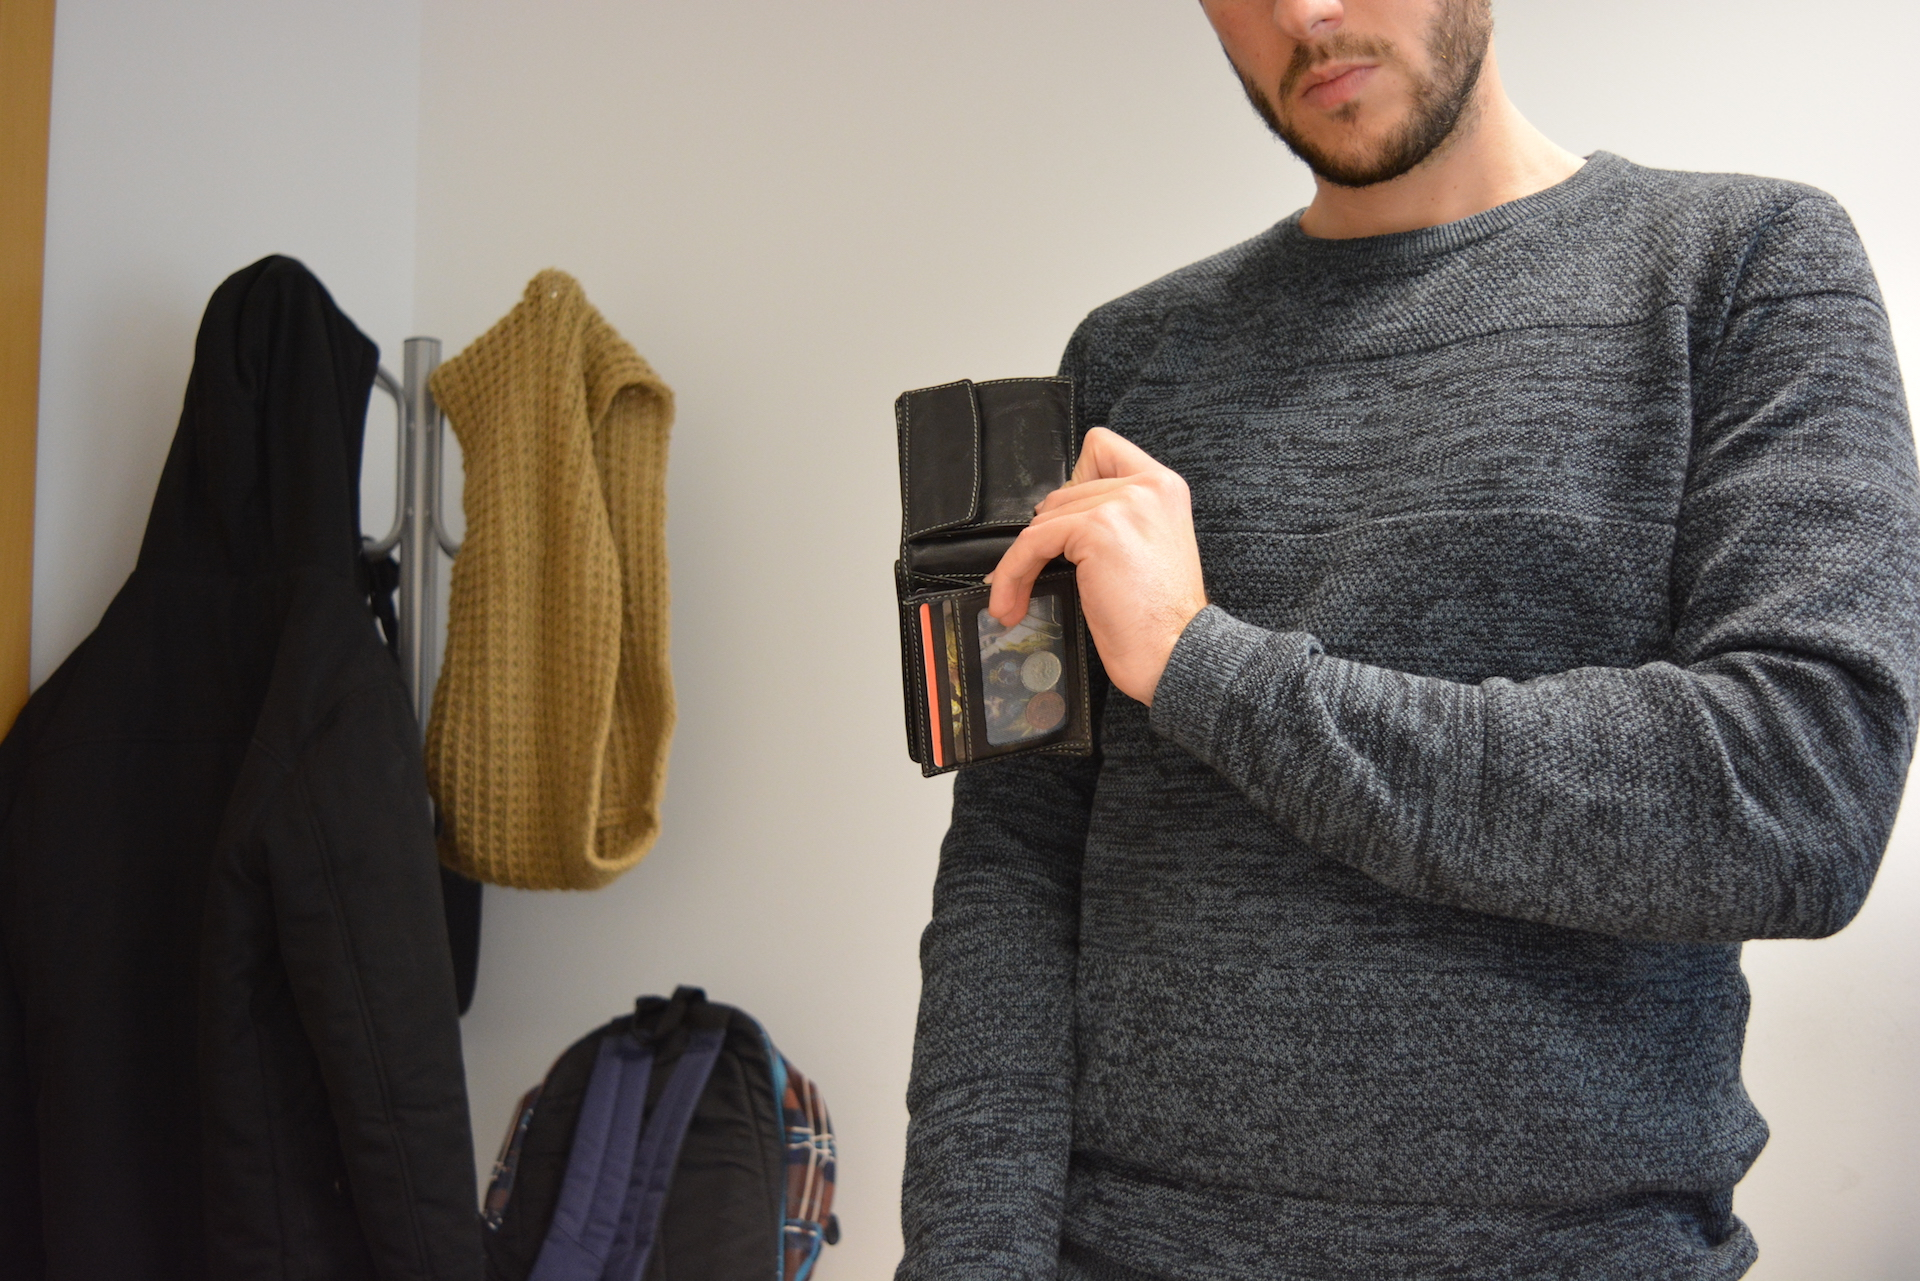monedero: (892, 375, 1097, 781)
